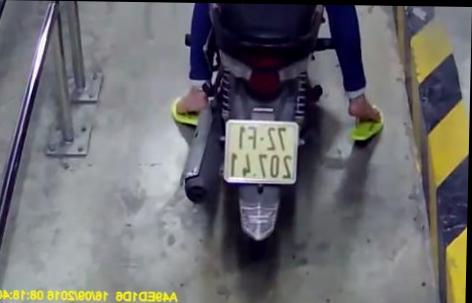License_Plate: (220, 116, 304, 190)
